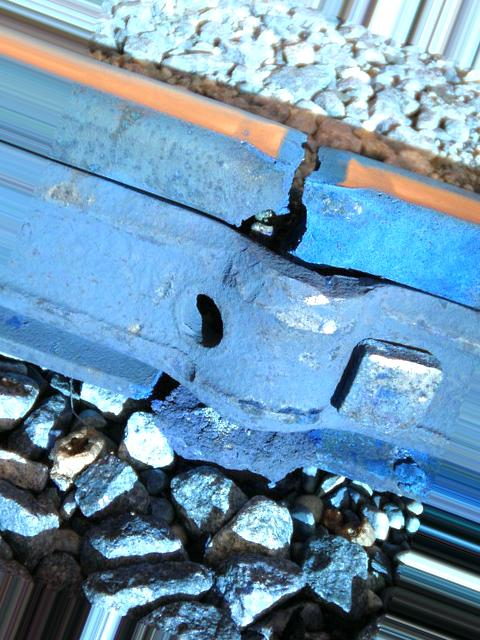tracks_fault: (119, 36, 401, 489)
